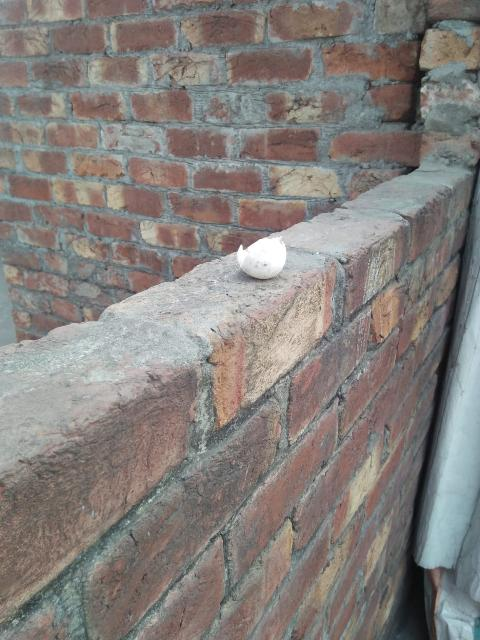Roto: (236, 234, 287, 280)
